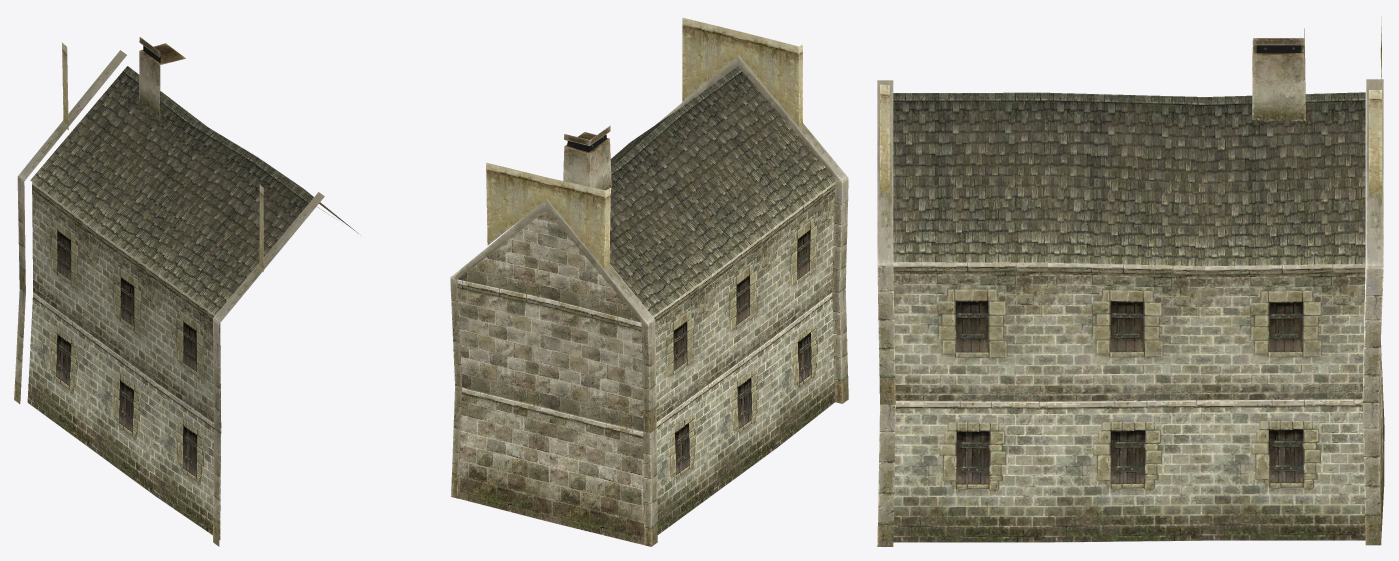
The model's file is OZ_09_sn_T03blgd01C.glb.
3 renders of one model, left to right at view 1: azimuth 30°, elevation 25°; view 2: azimuth 150°, elevation 25°; view 3: azimuth 270°, elevation 25°, orthographic. The views are drawn at different scales.
Visible parts, largest first — view 1: OM_09_sn_T03blgd01C; view 2: OM_09_sn_T03blgd01C; view 3: OM_09_sn_T03blgd01C.
Boxes of the visible parts, <box> form: OM_09_sn_T03blgd01C: <box>14,37,358,546</box>; OM_09_sn_T03blgd01C: <box>450,17,848,546</box>; OM_09_sn_T03blgd01C: <box>877,15,1384,546</box>.
Size of the model in its own units: 9.28 by 15.67 by 15.78.
Materials: 4 (4 with a texture image).
